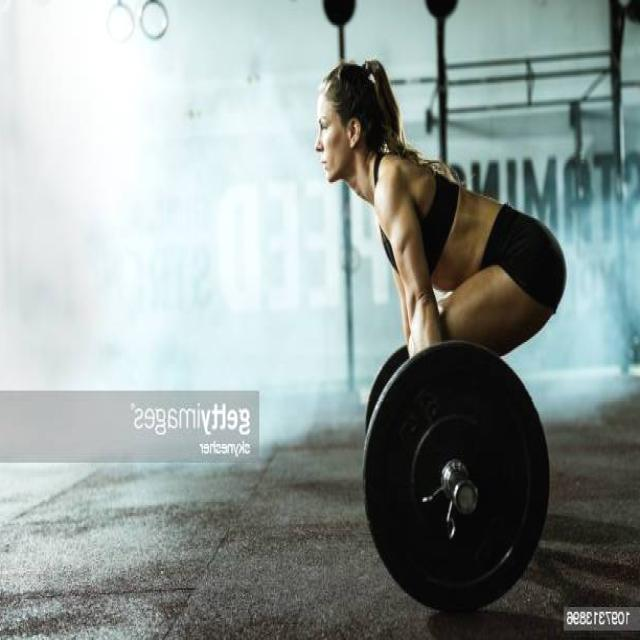barbell_plate_side: (363, 337, 410, 612), (504, 337, 551, 612)
